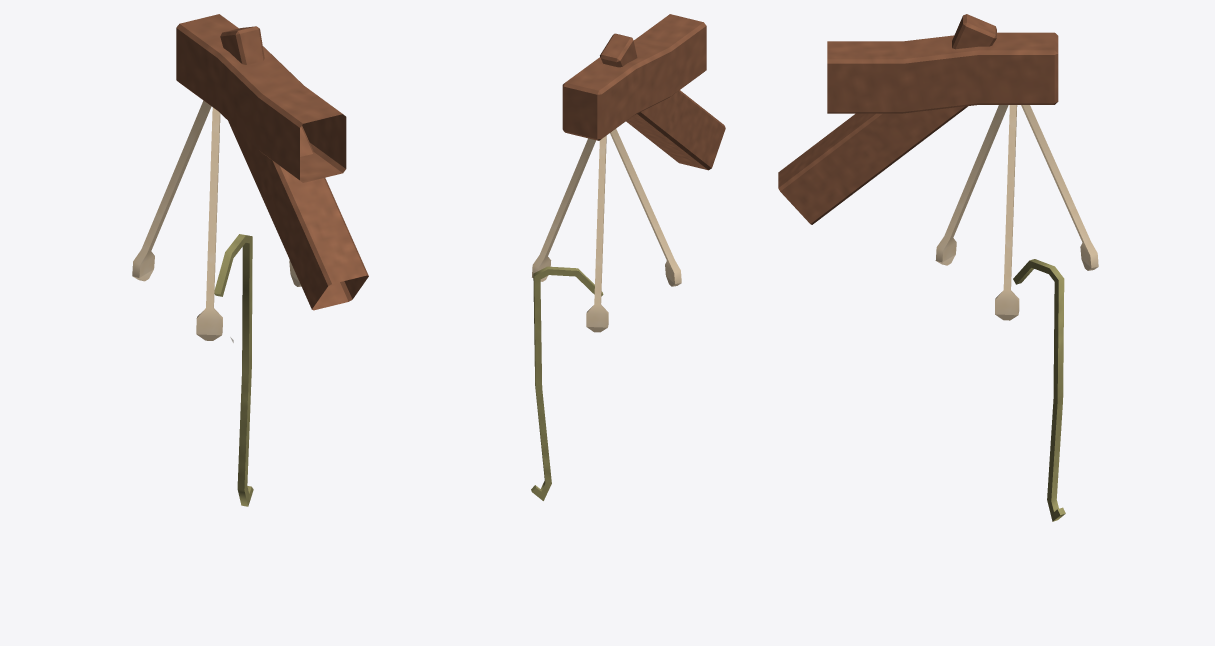
Rendered from SM_Plant_Chlorophytum.fbx.
3 renders of one model, left to right at view 1: azimuth 30°, elevation 25°; view 2: azimuth 150°, elevation 25°; view 3: azimuth 270°, elevation 25°, orthographic. The views are drawn at different scales.
Visible parts, largest first — view 1: Chlorophytum; view 2: Chlorophytum; view 3: Chlorophytum.
Boxes of the visible parts, x1,y1,x2,y2 form: Chlorophytum: (132,14,368,506); Chlorophytum: (531,14,725,500); Chlorophytum: (778,14,1098,521).
Bounding box in the file's own units: 111 × 193 × 123.
